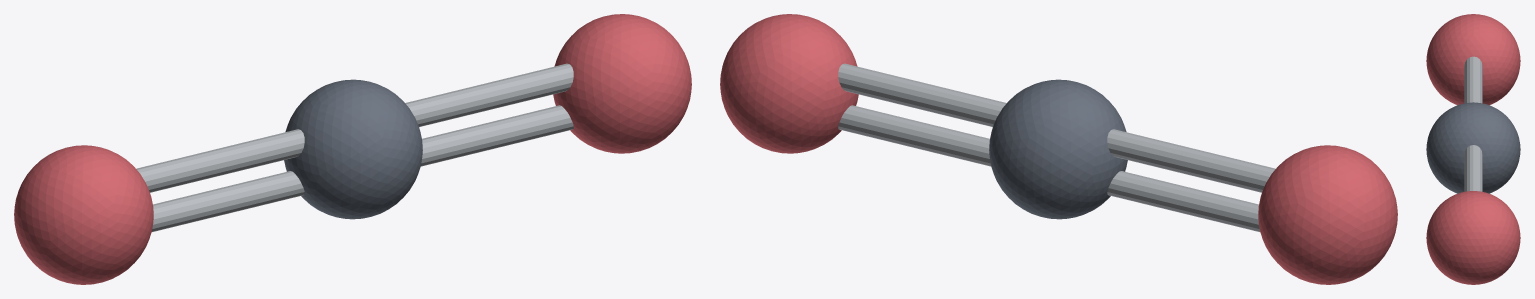
The model's file is gas_carbonico_CO2.glb.
The picture shows the model from 3 angles, left to right: view 1: azimuth 30°, elevation 25°; view 2: azimuth 150°, elevation 25°; view 3: azimuth 270°, elevation 25°; orthographic projection. The views are drawn at different scales.
Visible parts, largest first — view 1: O_0, C_1, O_2, bond_1_2_0, bond_0_1_0, bond_1_2_1, bond_0_1_1; view 2: O_0, C_1, O_2, bond_1_2_0, bond_0_1_0, bond_1_2_1, bond_0_1_1; view 3: O_2, C_1, O_0, bond_1_2_0, bond_0_1_0.
Boxes of the visible parts, x1=… form: O_0: x1=14, y1=145, x2=153, y2=284; C_1: x1=284, y1=79, x2=422, y2=219; O_2: x1=553, y1=14, x2=691, y2=153; bond_1_2_0: x1=405, y1=63, x2=573, y2=126; bond_0_1_0: x1=136, y1=129, x2=304, y2=192; bond_1_2_1: x1=421, y1=105, x2=573, y2=166; bond_0_1_1: x1=152, y1=171, x2=304, y2=231; O_0: x1=1258, y1=145, x2=1397, y2=284; C_1: x1=989, y1=79, x2=1127, y2=219; O_2: x1=720, y1=14, x2=858, y2=153; bond_1_2_0: x1=838, y1=63, x2=1006, y2=126; bond_0_1_0: x1=1107, y1=129, x2=1275, y2=192; bond_1_2_1: x1=838, y1=105, x2=990, y2=166; bond_0_1_1: x1=1107, y1=171, x2=1259, y2=231; O_2: x1=1426, y1=191, x2=1520, y2=284; C_1: x1=1426, y1=102, x2=1520, y2=193; O_0: x1=1426, y1=14, x2=1520, y2=105; bond_1_2_0: x1=1464, y1=145, x2=1482, y2=191; bond_0_1_0: x1=1464, y1=56, x2=1482, y2=103.
Bounding box in the file's own units: 2.94 × 0.54 × 0.54.
